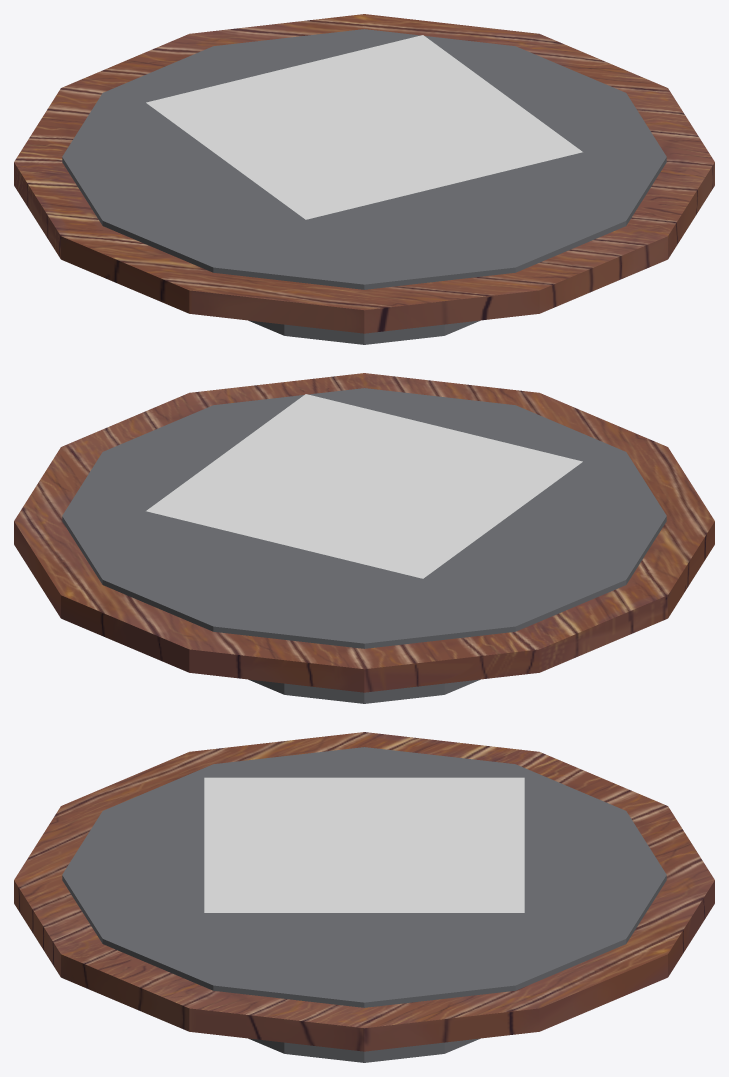
File: Pentagram Table.glb
3 views of the same model, one above another, from view 1: azimuth 30°, elevation 25°; view 2: azimuth 150°, elevation 25°; view 3: azimuth 270°, elevation 25° (orthographic).
Visible parts, largest first — view 1: Cylinder.001, Plane, Cylinder; view 2: Cylinder.001, Plane, Cylinder; view 3: Cylinder.001, Plane, Cylinder.
Part boxes in pixels (bbox=[...]): Cylinder.001: bbox=[14, 14, 714, 333]; Plane: bbox=[146, 35, 582, 219]; Cylinder: bbox=[248, 320, 480, 344]; Cylinder.001: bbox=[14, 373, 714, 692]; Plane: bbox=[146, 394, 582, 578]; Cylinder: bbox=[248, 679, 480, 703]; Cylinder.001: bbox=[14, 732, 714, 1051]; Plane: bbox=[204, 777, 524, 912]; Cylinder: bbox=[248, 1038, 480, 1062].
Bounding box in the file's own units: 4.38 × 1.03 × 4.38.
Materials: 1 (1 with a texture image).
